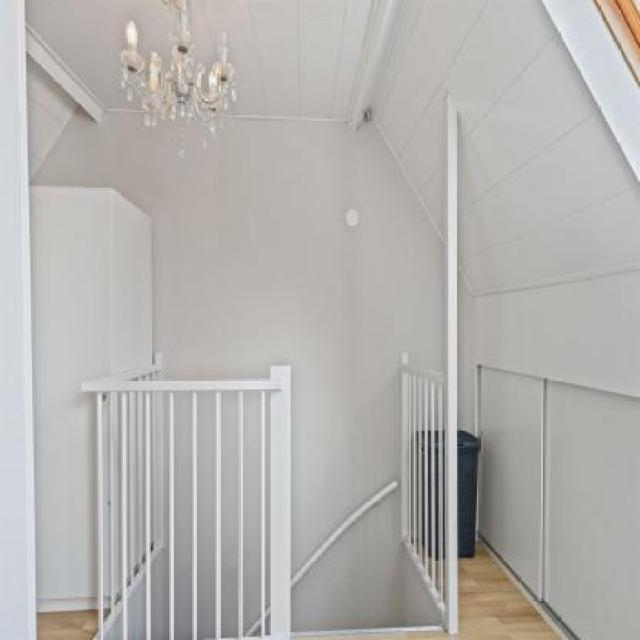floor: (458, 543, 574, 640)
